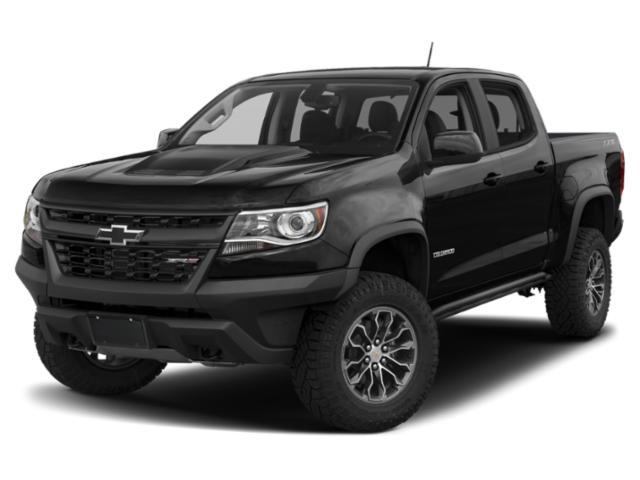Car: (10, 65, 630, 436)
